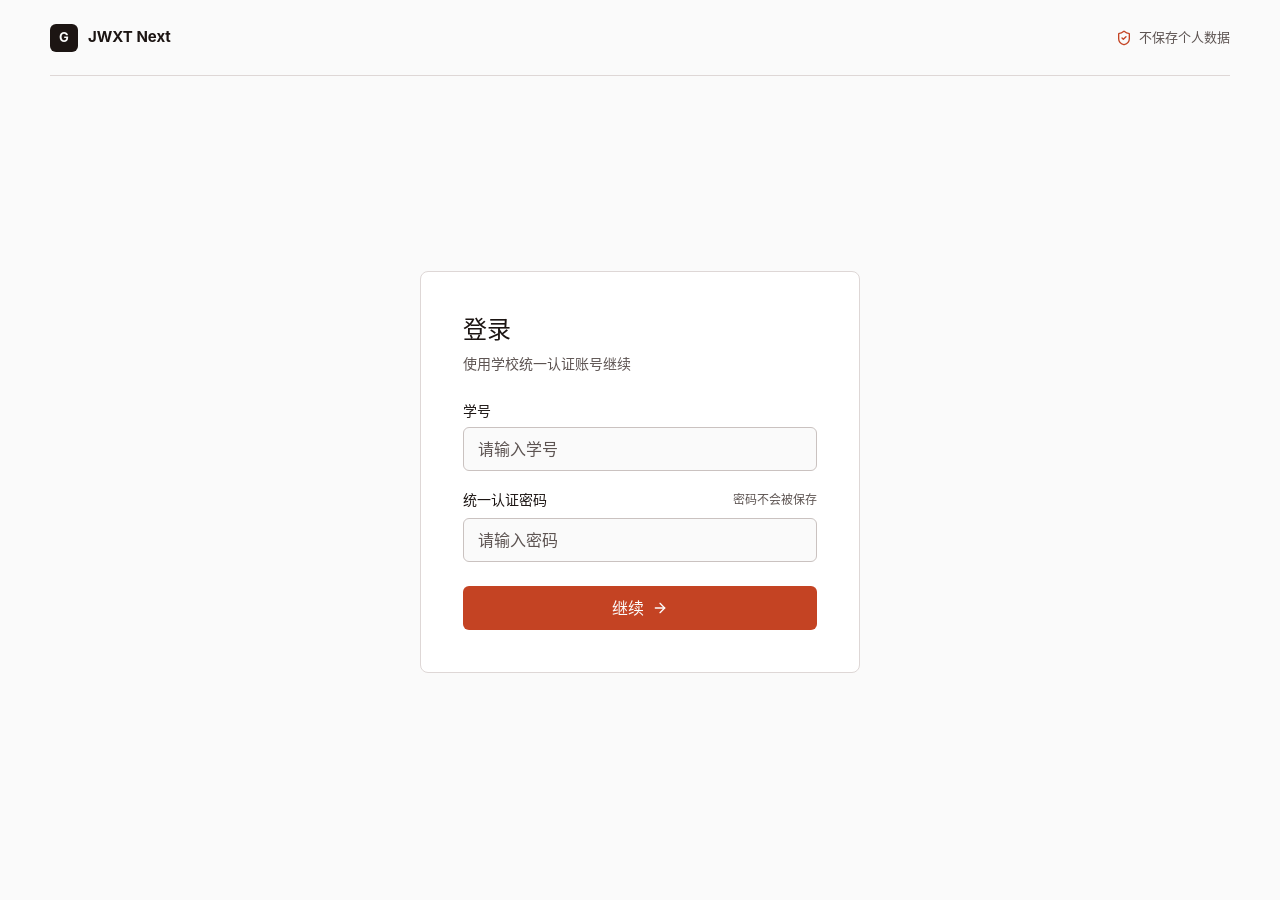
it: login page › shows field feedback without sending an empty request
Click the button "继续".
click(640, 608)  # box [463,586,817,630]
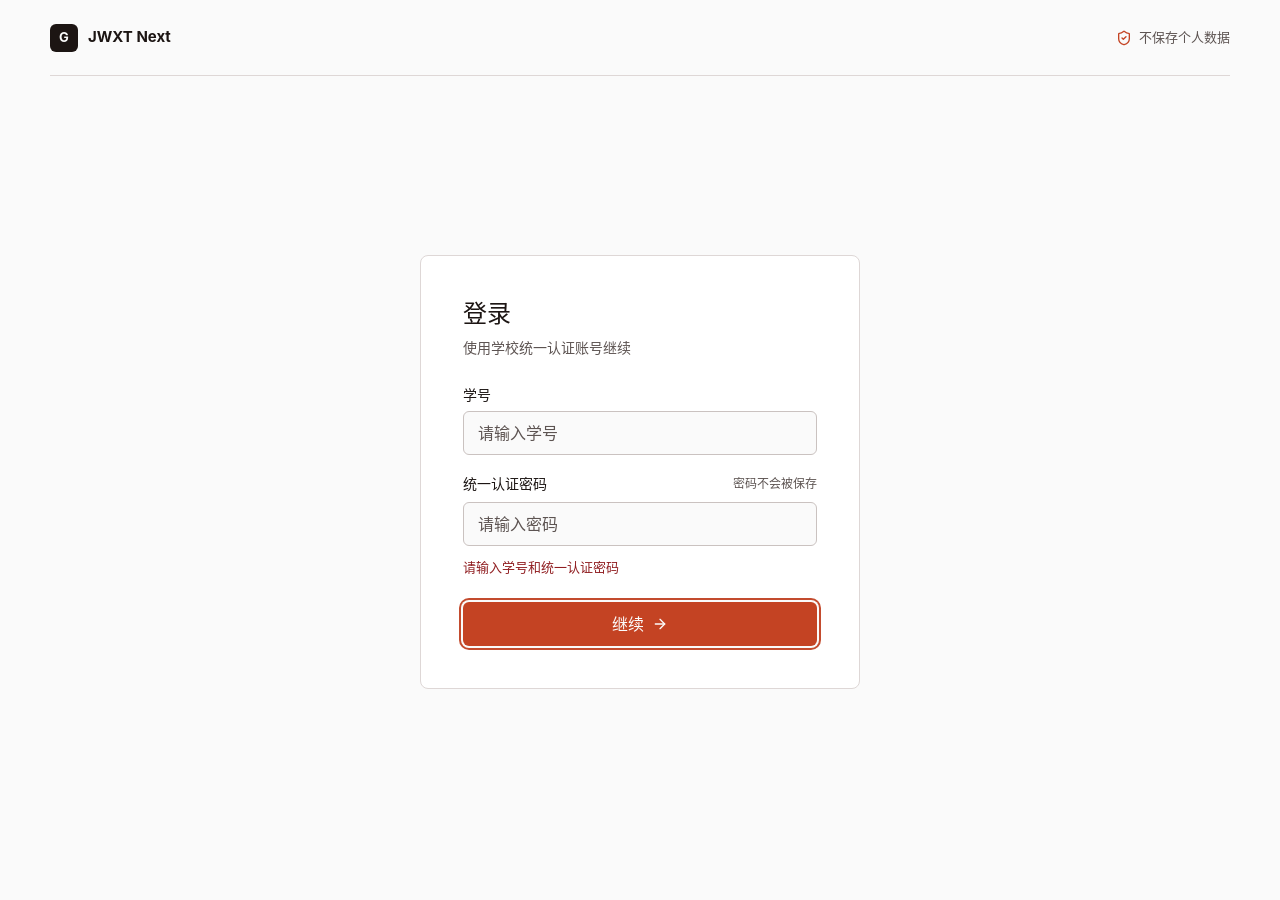
Check: the text "请输入学号和统一认证密码" is shown, box [463,559,619,575]
